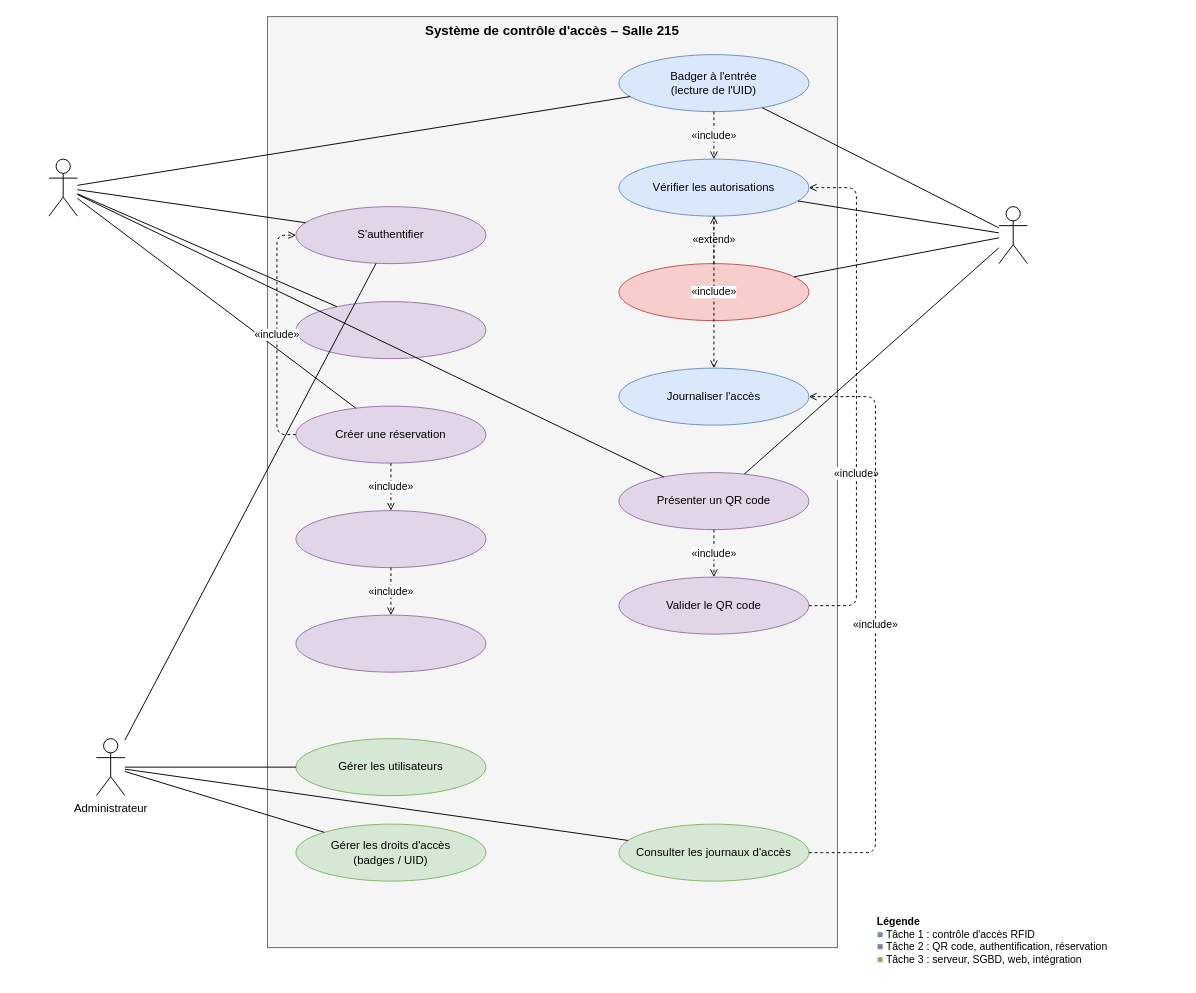
Some shapes in this 1196 by 993 pixel diagram are drawn without their labels. The centre of each missing label's shape, as x and y in pixels:
Consulter les disponibilités: the point at 390,330
Générer un QR code: the point at 390,643
Lecteur RFID / ESP32 (système externe): the point at 1012,235
Refuser l'accès: the point at 713,292
Utilisateur (porteur de badge): the point at 62,187
Vérifier conflits et droits: the point at 390,539
